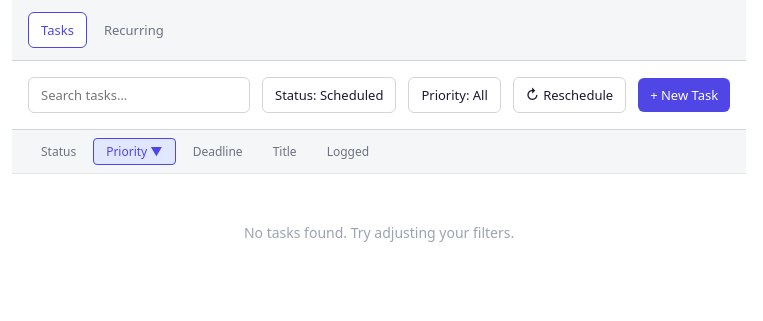
Test: TaskListView — recurring tab › defaults to the tasks tab and shows the recurring view after switching tabs
Expected: the search field labelled "Search tasks…" is shown, x1=28 y1=77 x2=250 y2=113
Expected: the text "Recurring templates" is not shown
Click the tab "Recurring" at {"x": 134, "y": 30}, box x1=91 y1=12 x2=177 y2=48
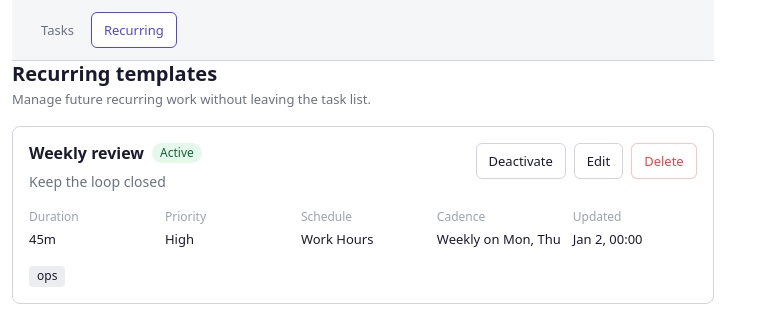
Expected: the search field labelled "search tasks" is not shown
Now the heading "Recurring templates" is shown, box x1=12 y1=61 x2=217 y2=87
